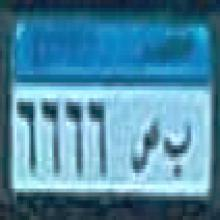6: (63, 93, 85, 179), (87, 99, 109, 178), (15, 98, 37, 174), (41, 95, 61, 176)
baa: (164, 112, 192, 186)
saad: (128, 108, 161, 176)
